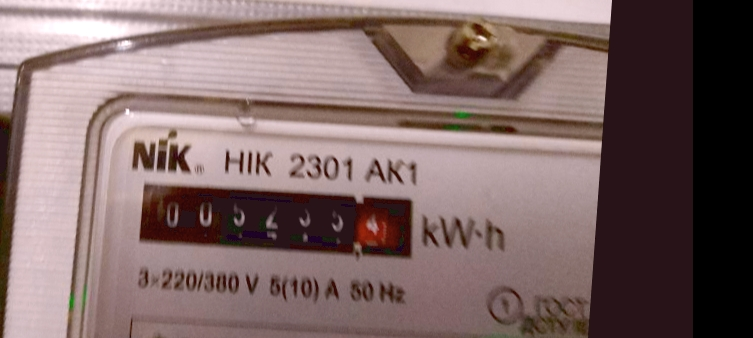0: (192, 196, 215, 230), (160, 197, 180, 229)
2: (258, 197, 282, 233)
3: (290, 198, 317, 232)
4: (359, 202, 384, 240)
5: (324, 199, 349, 236), (226, 196, 248, 230)
screen: (119, 166, 427, 274)
